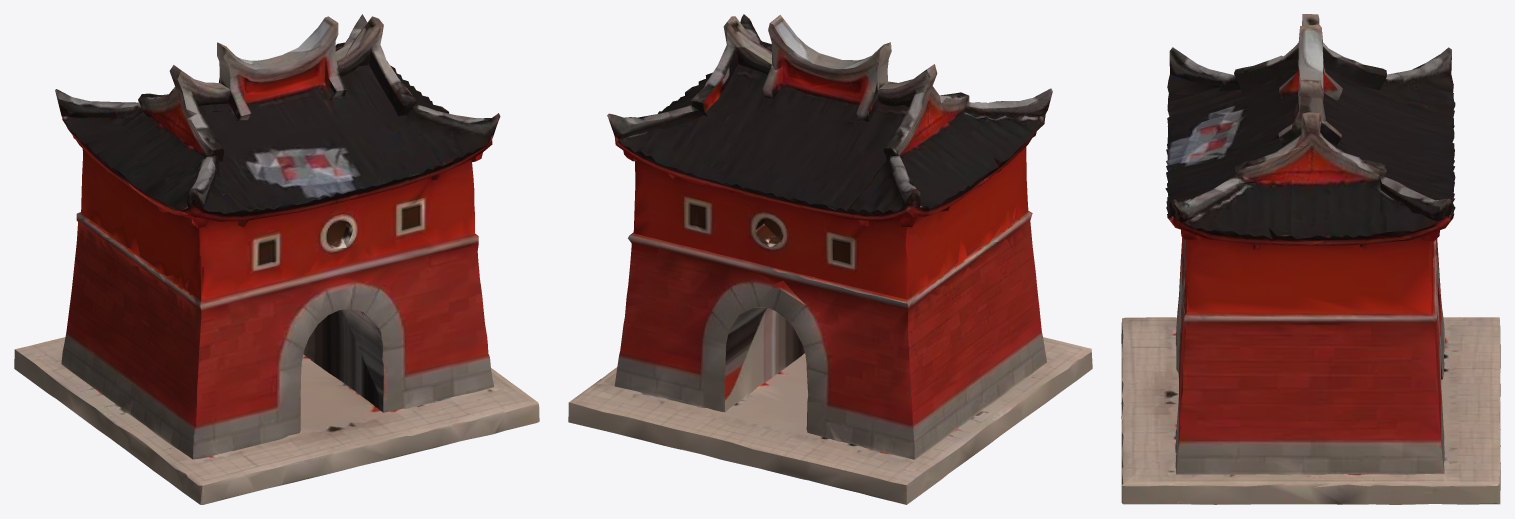
File: taipei-north-gate.glb
The picture shows the model from 3 angles, left to right: view 1: azimuth 30°, elevation 25°; view 2: azimuth 150°, elevation 25°; view 3: azimuth 270°, elevation 25°; orthographic projection.
Visible parts, largest first — view 1: logan-textured.obj; view 2: logan-textured.obj; view 3: logan-textured.obj.
Part boxes in pixels (x1=…): logan-textured.obj: x1=14, y1=14, x2=539, y2=504; logan-textured.obj: x1=568, y1=14, x2=1092, y2=504; logan-textured.obj: x1=1121, y1=14, x2=1500, y2=504.
Size of the model in its own units: 0.9771 by 1 by 0.9314.
Materials: 1 (1 with a texture image).
